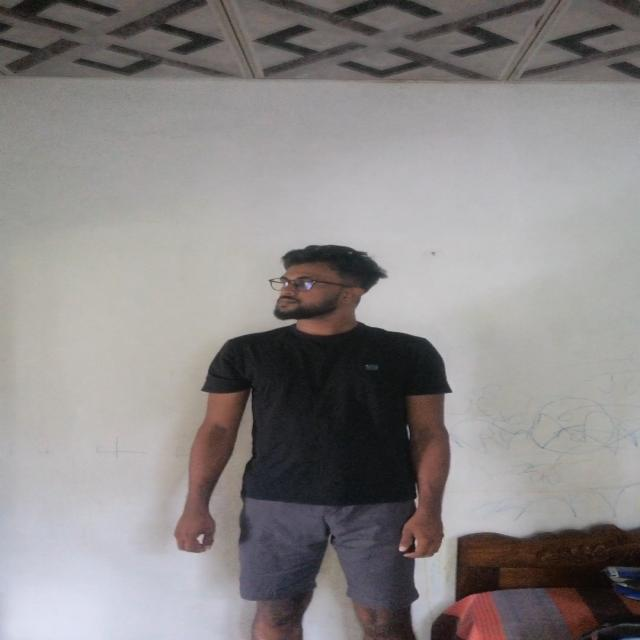Person: (156, 234, 470, 640)
